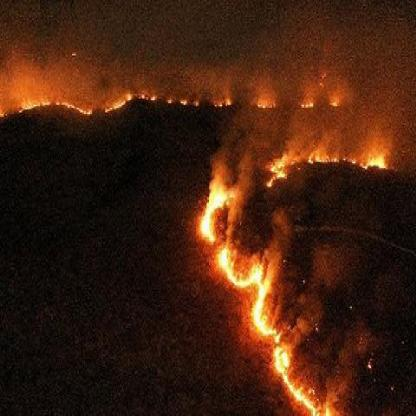fire: (194, 179, 343, 410), (2, 84, 342, 116), (223, 138, 390, 180)
